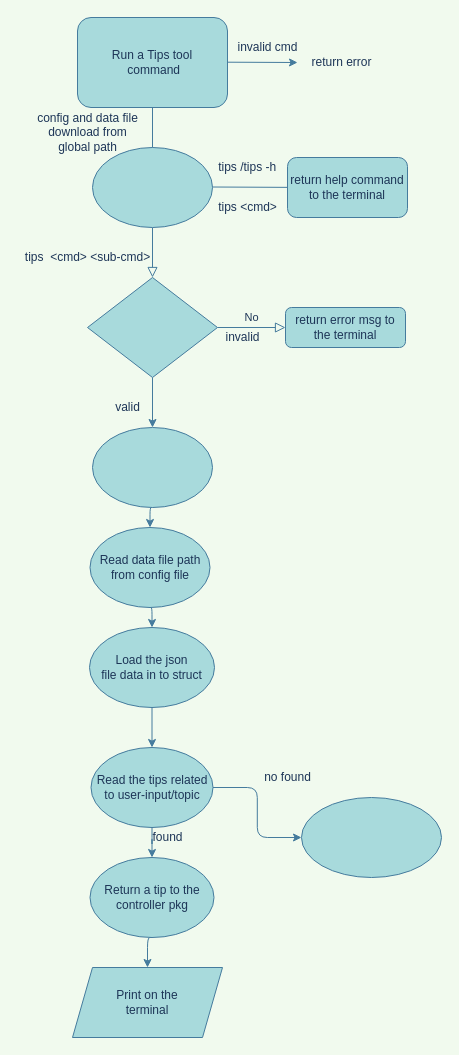
Image size: 459x1055. Some labels were removed from this diagram. The centre of each missing label's shape, as x and y in pixels:
check <sub-cmd> User-input: (152,327)
Execute root cmd<tips> / sub root cmd <tool-name>: (152,187)
Return tip is not available for this input: (371,837)
User-Input pass to the model package from controller pkg: (152,467)
